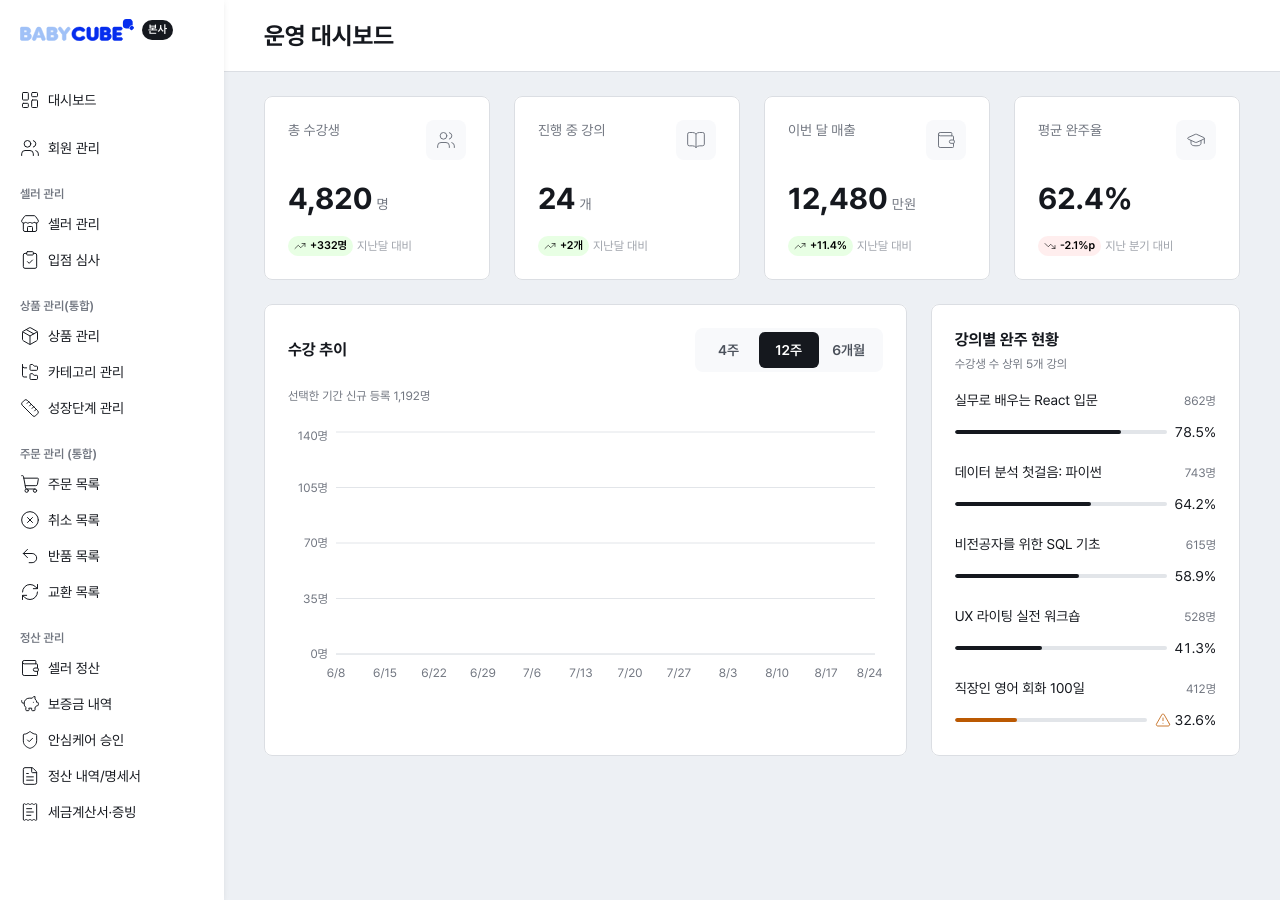
Test: OpsDashboardPage (운영 대시보드) › 수강 추이 차트 › 6개월로 바꾸면 월 단위 6점이 되고 합계가 2,049명이 된다
The image size is (1280, 900).
Click the radio button labelled "6개월". click: click(849, 350)
box: [819,332,879,368]
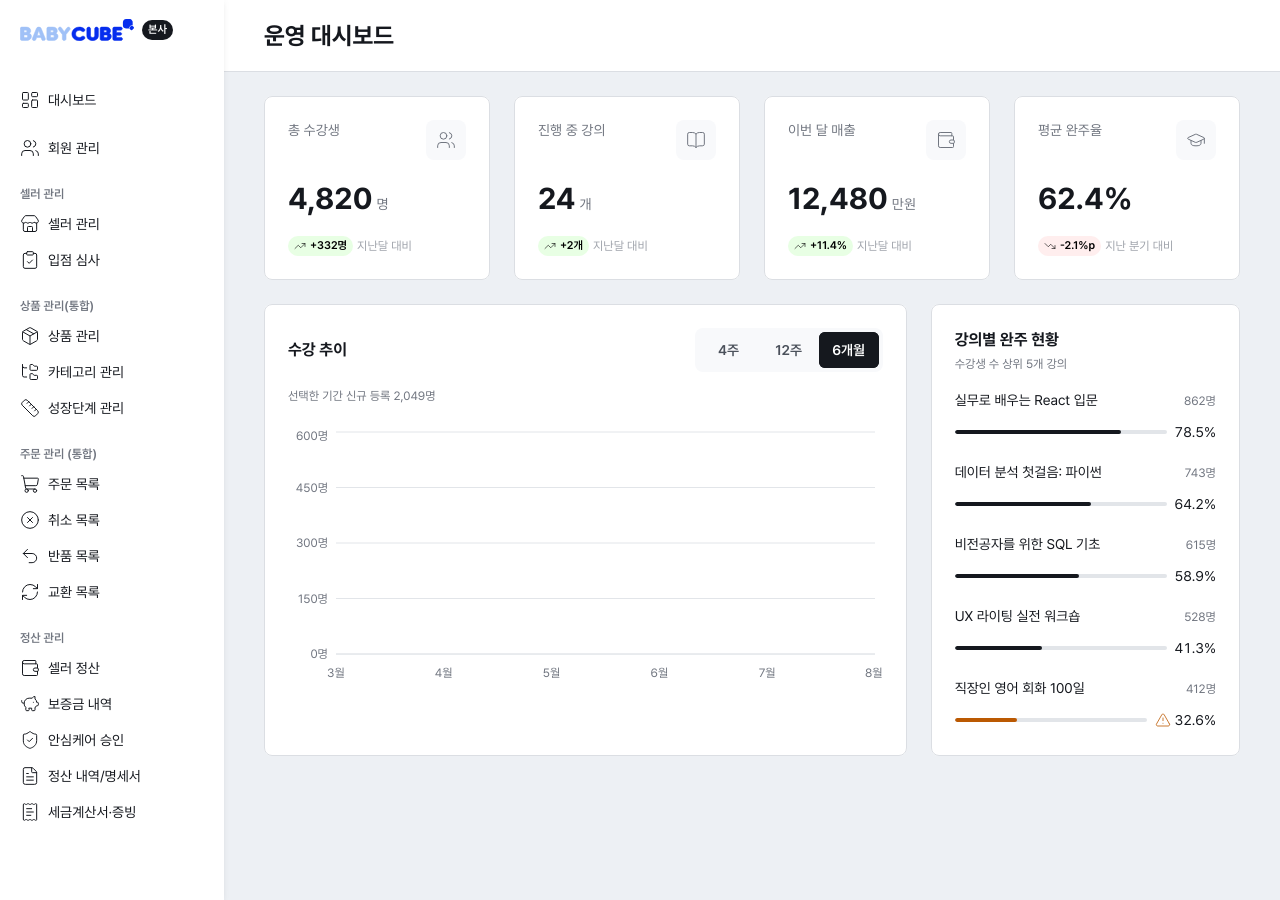
Expected: the picture named "최근 6개월 신규 수강 등록 수 추이" is shown, [288,424,883,684]
Expected: the text "선택한 기간 신규 등록 2,049명" is shown, [288,389,436,403]
